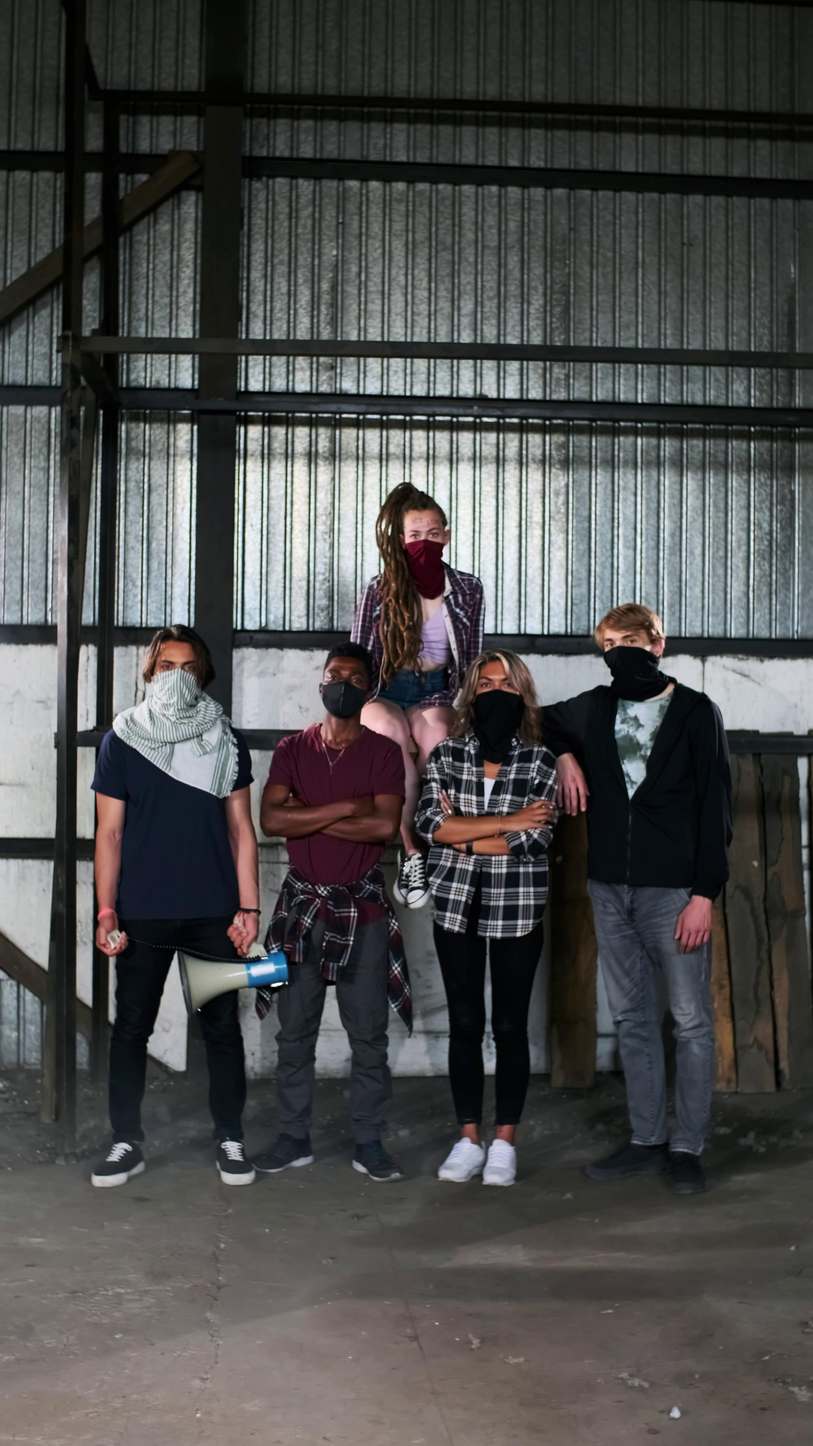mask: (469, 689, 526, 764), (603, 645, 670, 702), (145, 670, 202, 717), (403, 540, 446, 599), (320, 680, 367, 719)
person: (535, 602, 737, 1197), (89, 624, 262, 1189), (247, 641, 413, 1186), (414, 647, 562, 1188), (349, 482, 486, 909)
